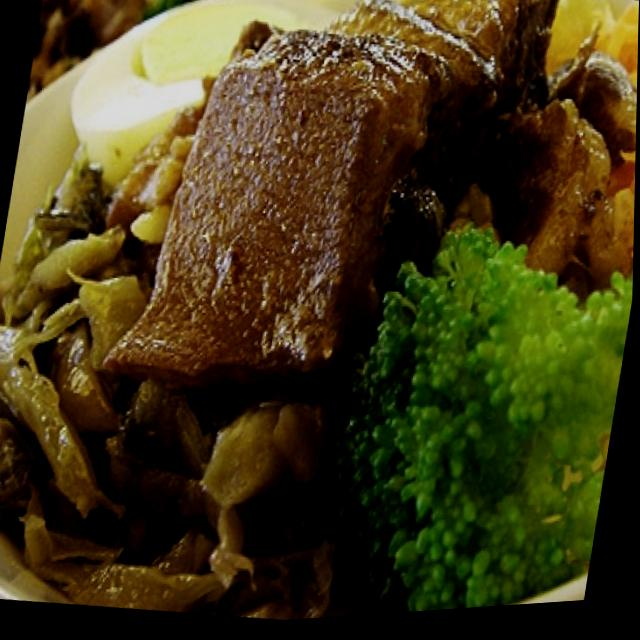牛肉菜式: (53, 0, 640, 577)
